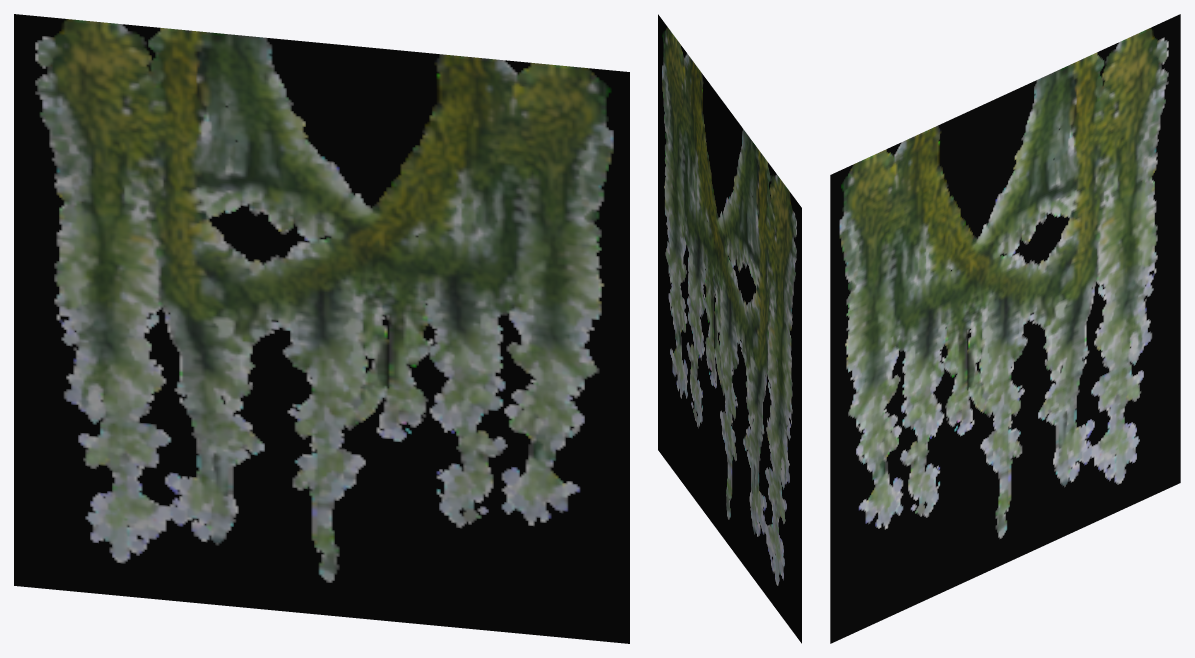
File: ColdZone_Log_Liquen.gltf
The picture shows the model from 3 angles, left to right: view 1: azimuth 30°, elevation 25°; view 2: azimuth 150°, elevation 25°; view 3: azimuth 270°, elevation 25°; orthographic projection. The views are drawn at different scales.
Visible parts, largest first — view 1: ColdZone_Log_Liquen; view 2: ColdZone_Log_Liquen; view 3: ColdZone_Log_Liquen.
Boxes of the visible parts, x1,y1,x2,y2 form: ColdZone_Log_Liquen: (14,14,629,643); ColdZone_Log_Liquen: (658,14,801,643); ColdZone_Log_Liquen: (830,14,1180,643).
Bounding box in the file's own units: 2.82 × 3.83 × 2.59.
1 material, 1 textured.
